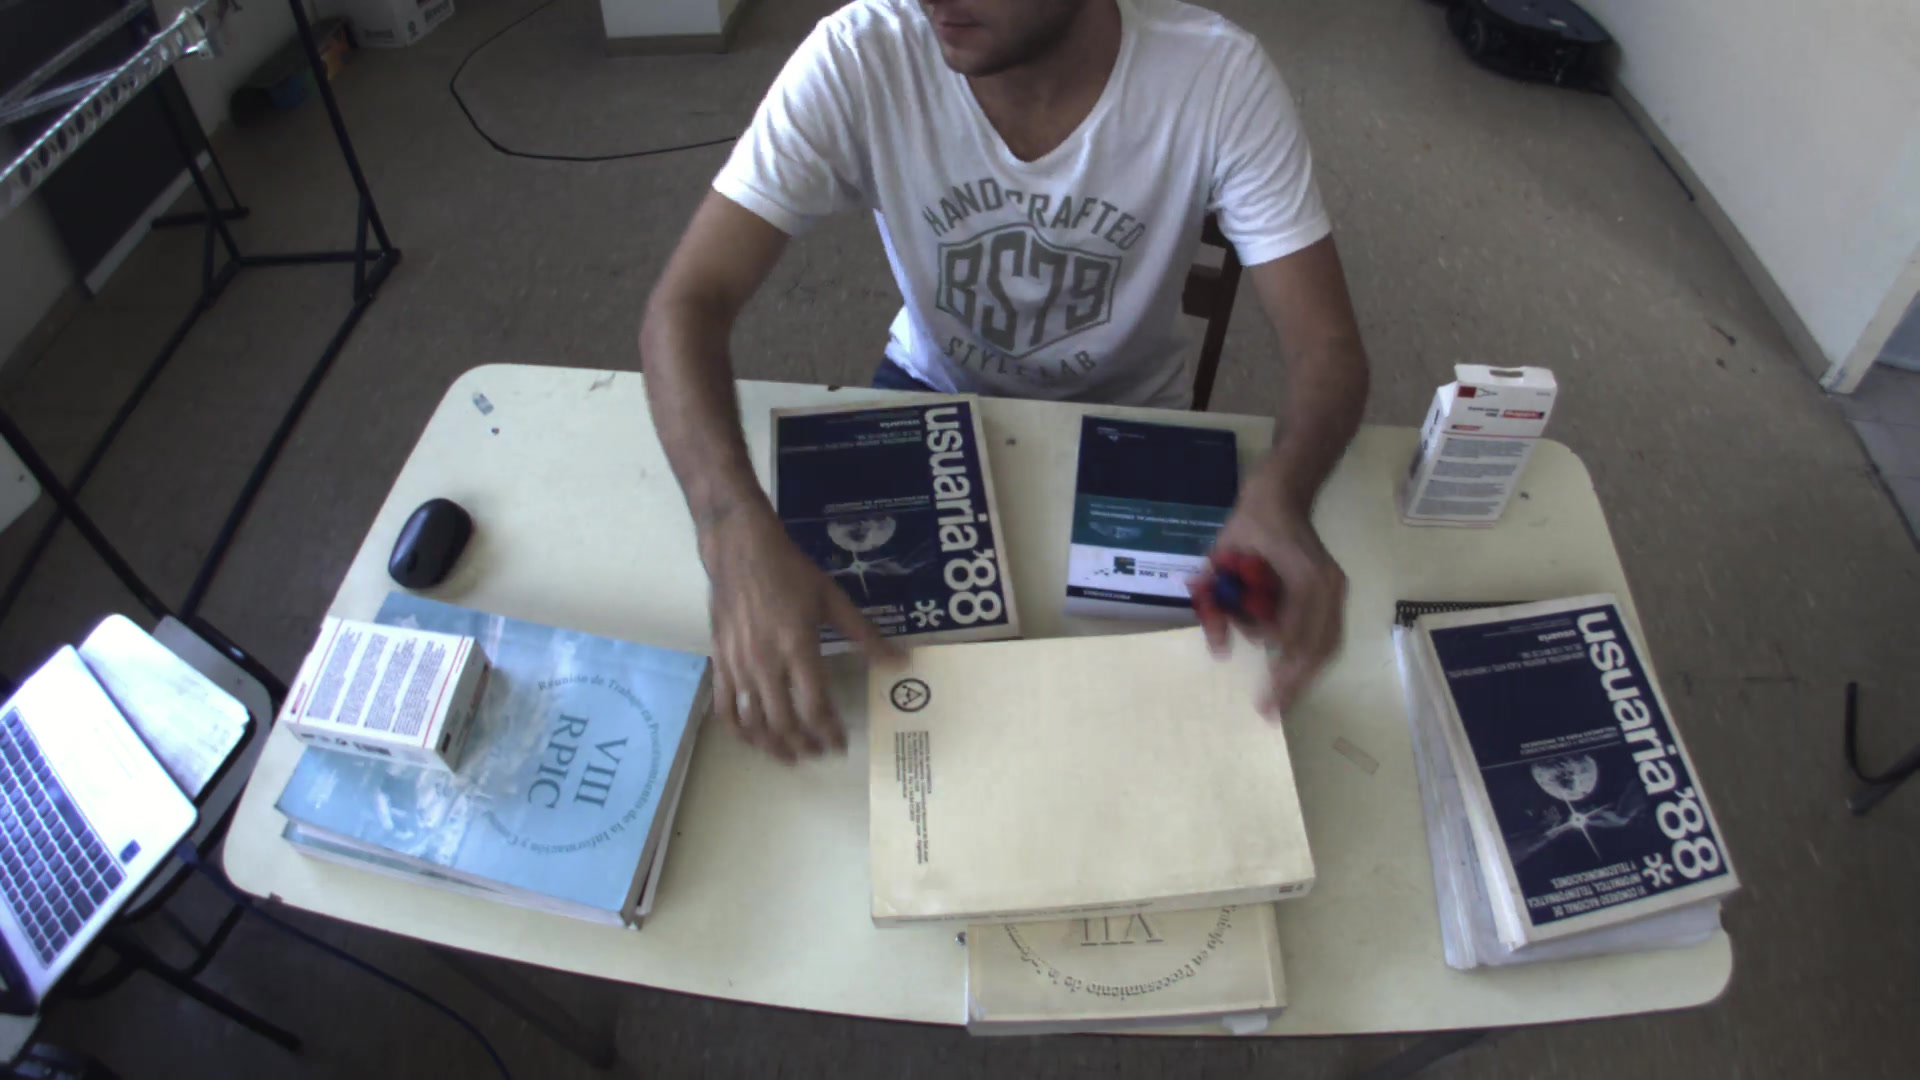hand: (691, 537, 916, 771), (1175, 473, 1366, 709)
